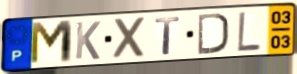D: (197, 11, 231, 56)
K: (74, 20, 103, 61)
L: (236, 10, 263, 52)
M: (28, 19, 75, 67)
T: (153, 15, 182, 56)
X: (113, 15, 149, 61)
